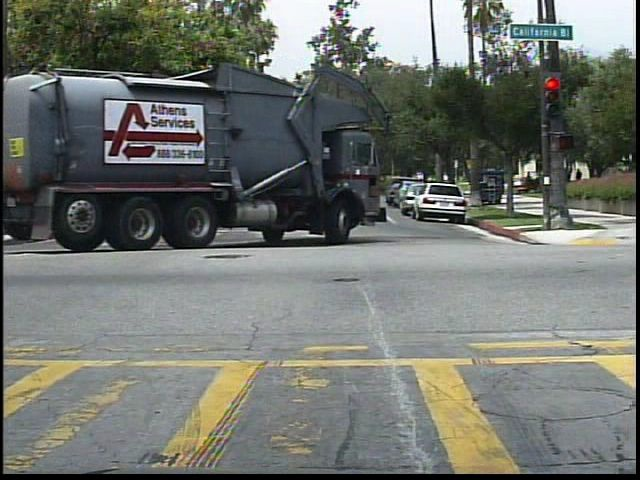person: (571, 164, 590, 194)
